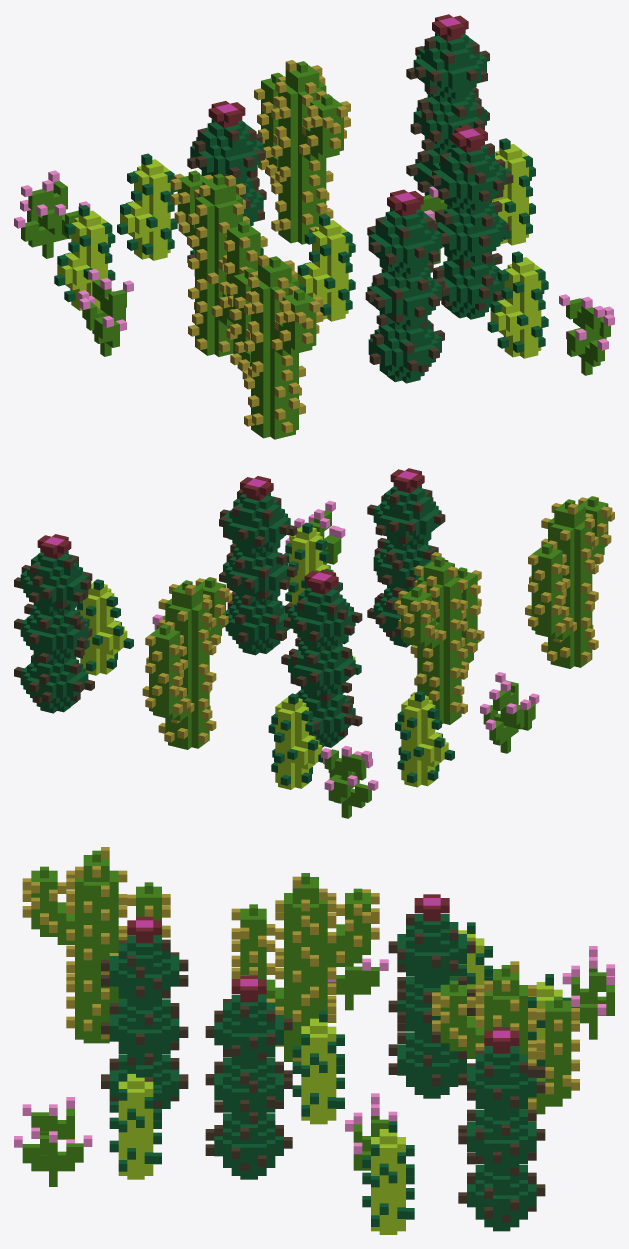
Rendered from cacti_2_overtile.obj.
The picture shows the model from 3 angles, top to bottom: view 1: azimuth 30°, elevation 25°; view 2: azimuth 150°, elevation 25°; view 3: azimuth 270°, elevation 25°; orthographic projection. The views are drawn at different scales.
Size of the model in its own units: 6.7 by 2.4 by 6.9.
1 material, 1 textured.
